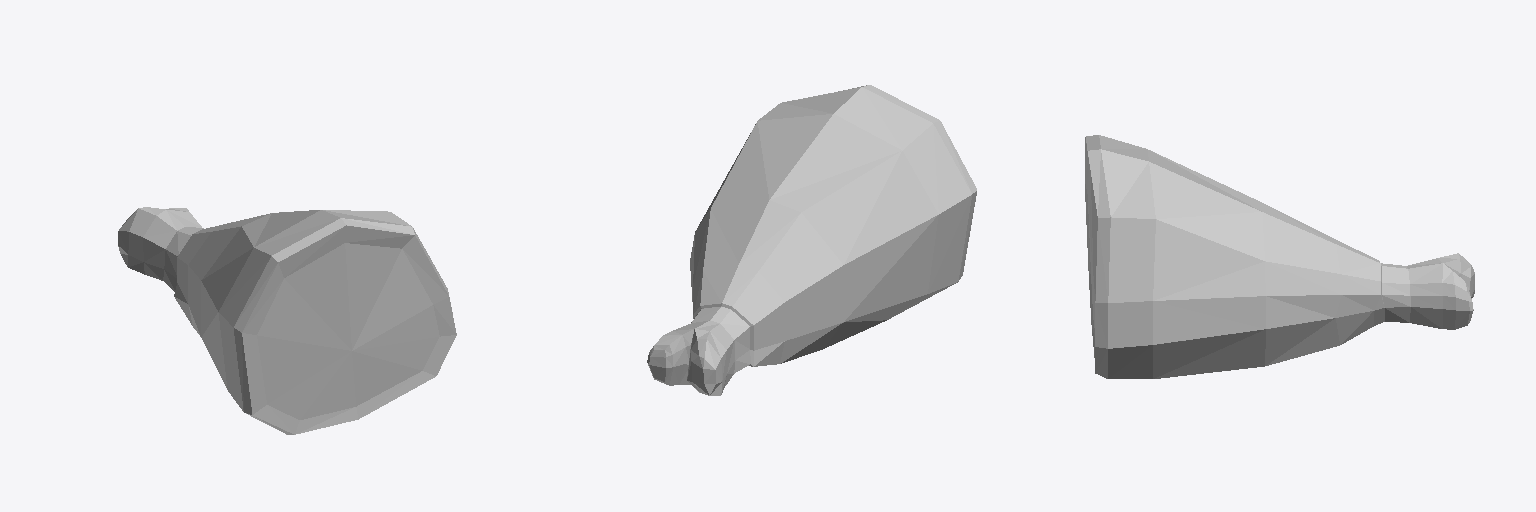
File: Ham_Banquet_geo.obj
3 views of the same model, side by side, from view 1: azimuth 30°, elevation 25°; view 2: azimuth 150°, elevation 25°; view 3: azimuth 270°, elevation 25° (orthographic).
Parts seen in each view (by area): view 1: REDO:LegoHam1; view 2: REDO:LegoHam1; view 3: REDO:LegoHam1.
Boxes of the visible parts, x1=… form: REDO:LegoHam1: x1=118, y1=207, x2=456, y2=434; REDO:LegoHam1: x1=647, y1=85, x2=976, y2=395; REDO:LegoHam1: x1=1085, y1=135, x2=1474, y2=378.
Bounding box in the file's own units: 7.81 × 6.88 × 11.65.